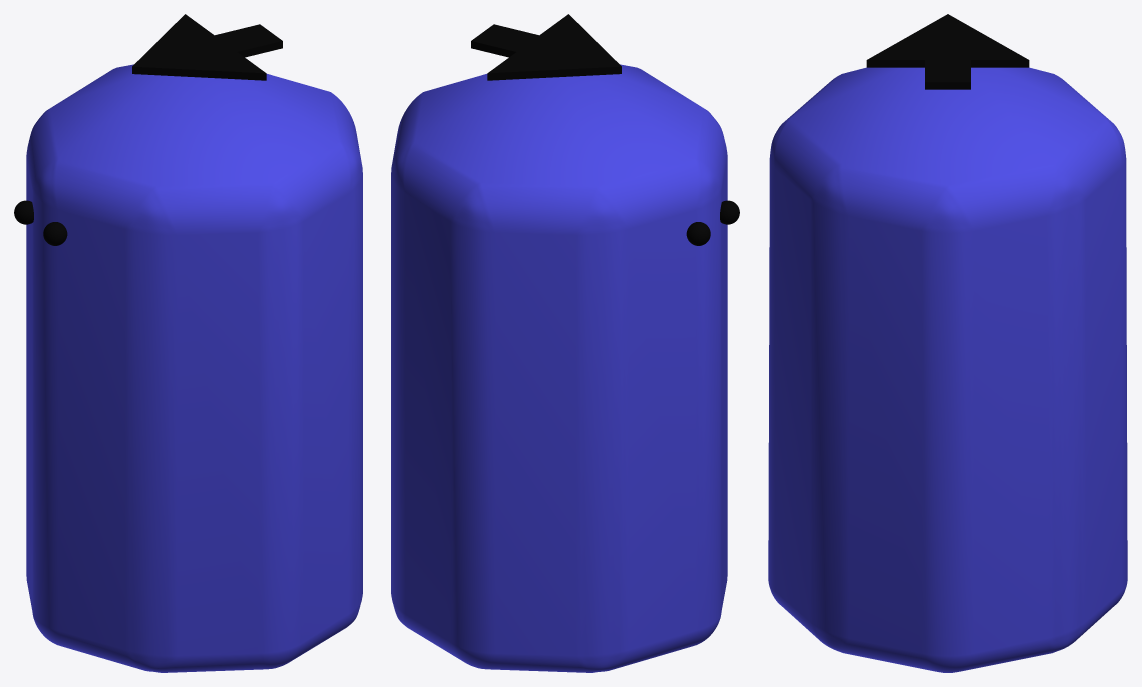
Rendered from spurple.obj.
3 renders of one model, left to right at view 1: azimuth 30°, elevation 25°; view 2: azimuth 150°, elevation 25°; view 3: azimuth 270°, elevation 25°, orthographic.
Visible parts, largest first — view 1: Cube.020_Cube.009; view 2: Cube.020_Cube.009; view 3: Cube.020_Cube.009.
Part boxes in pixels (x1,y1,x2,y2): Cube.020_Cube.009: (14,14,362,672); Cube.020_Cube.009: (391,14,739,672); Cube.020_Cube.009: (768,14,1127,672).
Size of the model in its own units: 0.2642 by 0.4425 by 0.2565.
